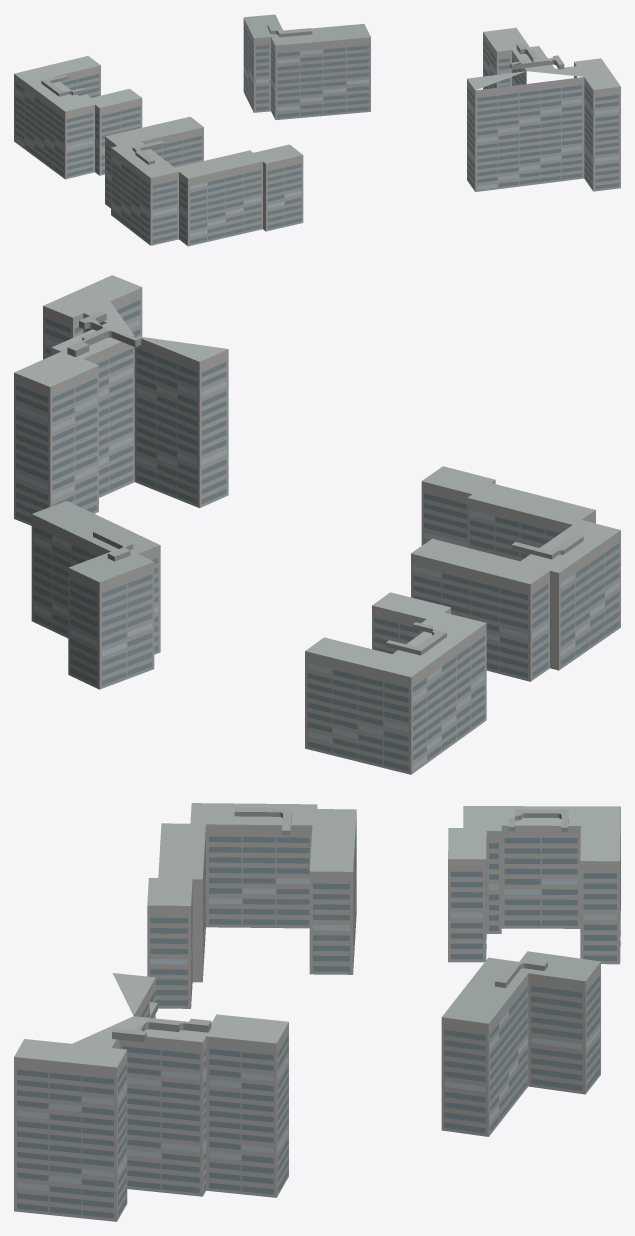
Rendered from apt-a15721003.glb.
3 views of the same model, one above another, from view 1: azimuth 30°, elevation 25°; view 2: azimuth 150°, elevation 25°; view 3: azimuth 270°, elevation 25° (orthographic). The views are drawn at different scales.
Visible parts, largest first — view 1: apt-a15721003; view 2: apt-a15721003; view 3: apt-a15721003.
Part boxes in pixels (bbox=[...]): apt-a15721003: bbox=[14, 14, 620, 246]; apt-a15721003: bbox=[14, 275, 620, 774]; apt-a15721003: bbox=[14, 803, 620, 1221].
Bounding box in the file's own units: 201 × 47.81 × 163.
